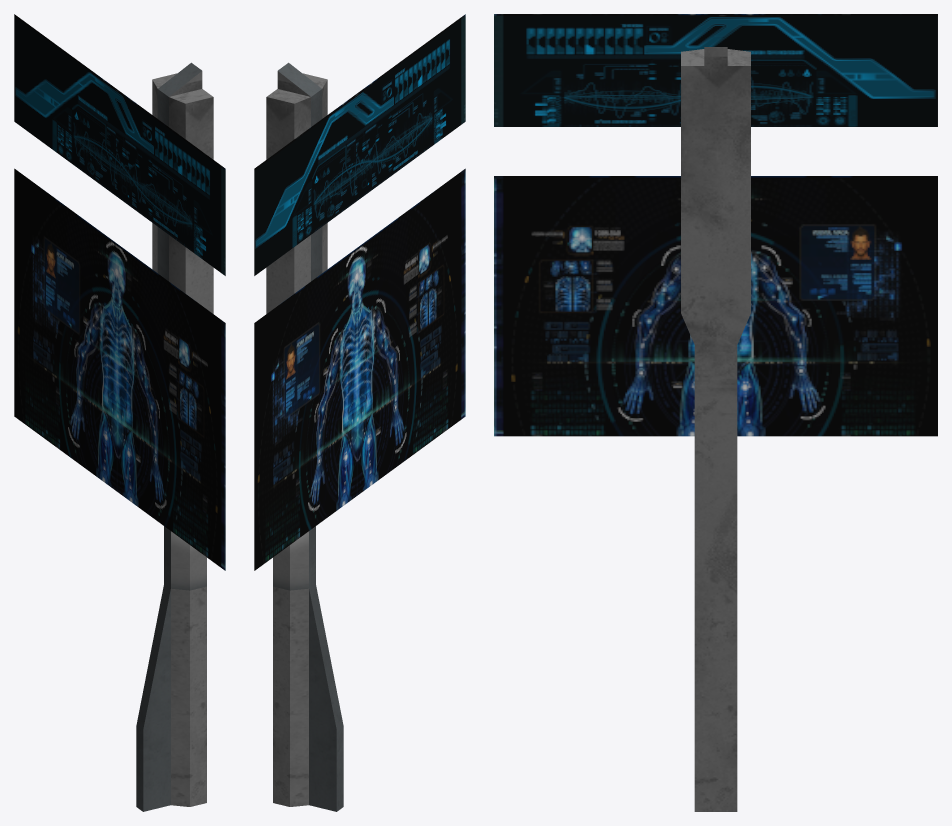
File: Monitor4.fbx
3 views of the same model, side by side, from view 1: azimuth 30°, elevation 25°; view 2: azimuth 150°, elevation 25°; view 3: azimuth 270°, elevation 25° (orthographic). The views are drawn at different scales.
Parts seen in each view (by area): view 1: Monitor4, Monitor4Stand; view 2: Monitor4, Monitor4Stand; view 3: Monitor4, Monitor4Stand.
Boxes of the visible parts, x1,y1,x2,y2 form: Monitor4: (14, 14, 225, 570); Monitor4Stand: (136, 62, 213, 811); Monitor4: (254, 14, 465, 570); Monitor4Stand: (266, 62, 343, 811); Monitor4: (494, 14, 937, 436); Monitor4Stand: (681, 47, 750, 811).
Size of the model in its own units: 31.37 by 284 by 149.
